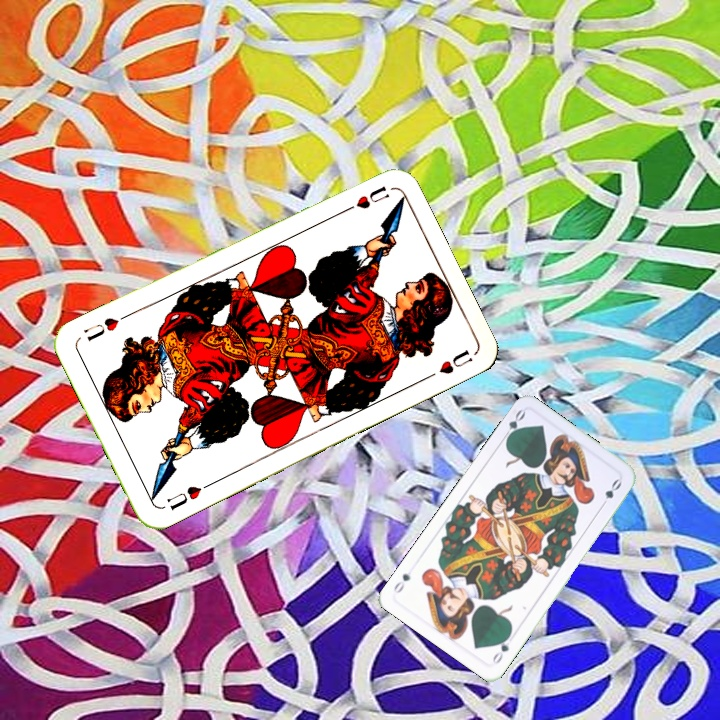GO: (498, 406, 528, 444), (488, 629, 514, 667)
HU: (337, 182, 392, 216), (162, 478, 214, 513)
